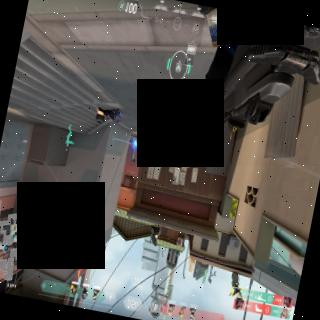ENEMY-HEAD: (162, 162, 164, 166)
